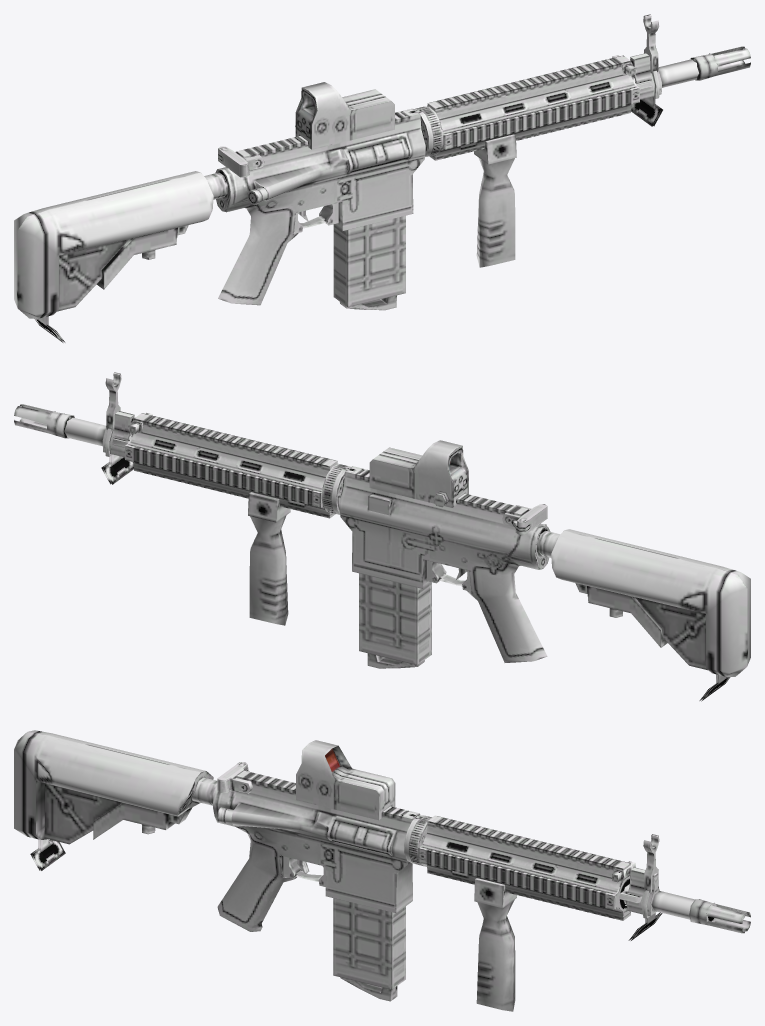
Rendered from Weapon_AssaultRifle_ATac_Weapon_AssaultRifle_ATac_SkeletalMesh3_Weapon_AssaultRifle_ATac_Bodyguard_LOD0.psk.glb.
3 renders of one model, top to bottom at view 1: azimuth 30°, elevation 25°; view 2: azimuth 150°, elevation 25°; view 3: azimuth 330°, elevation 25°, orthographic.
Size of the model in its own units: 89 by 27.46 by 7.73.
Materials: 1 (1 with a texture image).
